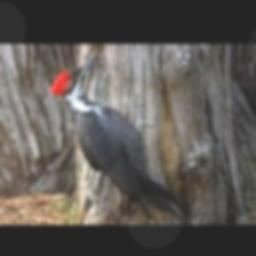Woodpecker: (49, 52, 186, 223)
